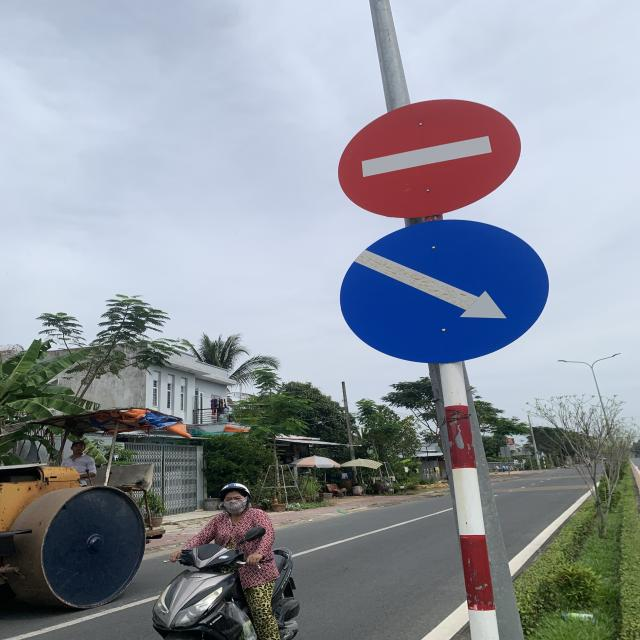Cam_Di_Nguoc_Chieu: (336, 98, 522, 218)
Chi_Huong_Di_Phai: (342, 218, 553, 366)
